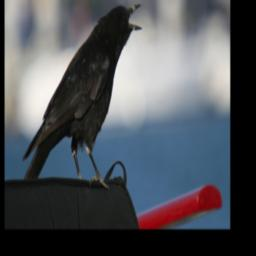Crow: (21, 0, 144, 194)
